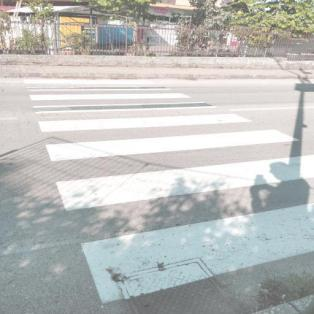Paso de Cebra: (31, 112, 305, 165), (20, 78, 176, 94)
